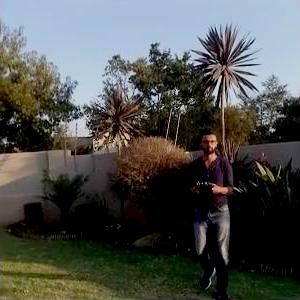follow: (188, 126, 238, 298)
